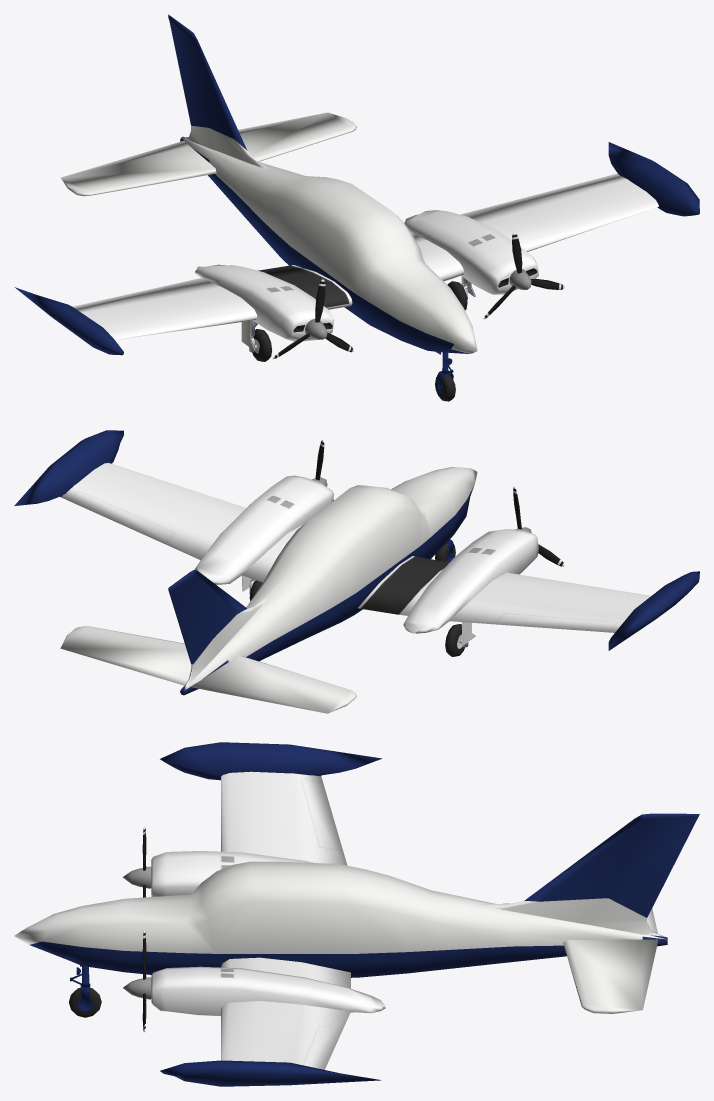
File: cessna310.livery-v1.lod1.glb
3 renders of one model, top to bottom at view 1: azimuth 30°, elevation 25°; view 2: azimuth 150°, elevation 25°; view 3: azimuth 270°, elevation 25°, orthographic. The views are drawn at different scales.
Parts seen in each view (by area): view 1: Cube__0, Engine_Texture2_0, Prop1_PropellorTexture_0; view 2: Cube__0, Engine_Texture2_0, Prop1_PropellorTexture_0; view 3: Cube__0, Engine_Texture2_0.
Part boxes in pixels (x1,y1,x2,y2): Cube__0: (14,14,699,401); Engine_Texture2_0: (73,173,658,341); Prop1_PropellorTexture_0: (272,232,564,359); Cube__0: (14,430,699,713); Engine_Texture2_0: (60,463,650,633); Prop1_PropellorTexture_0: (315,439,564,566); Cube__0: (14,742,699,1086); Engine_Texture2_0: (151,771,385,1069).
Bounding box in the file's own units: 11.3 × 3.26 × 9.97.
Materials: 4 (2 with a texture image).
